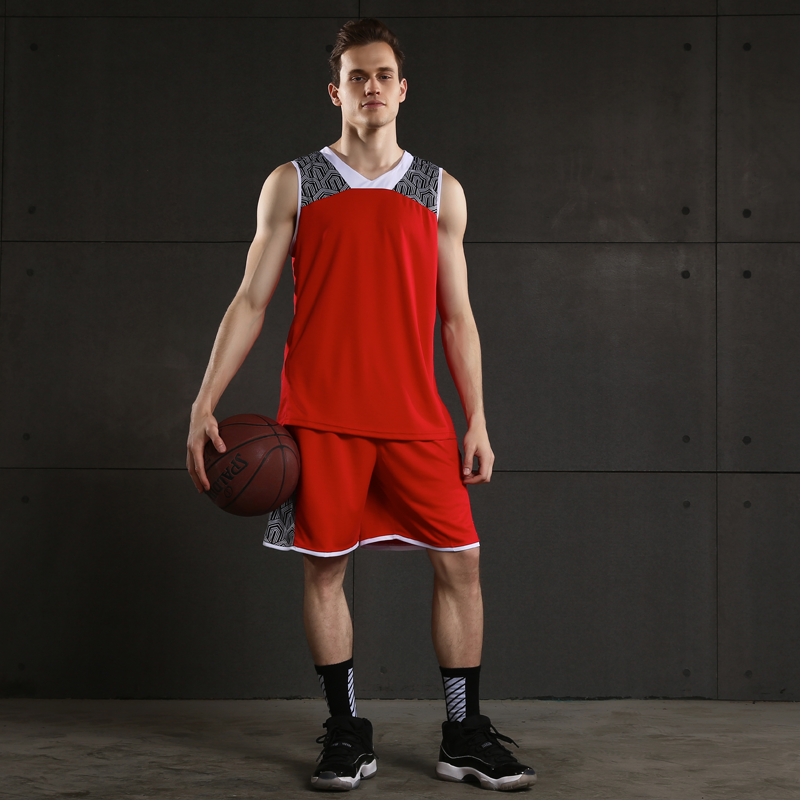ball: (199, 415, 300, 515)
player: (188, 25, 541, 799)
